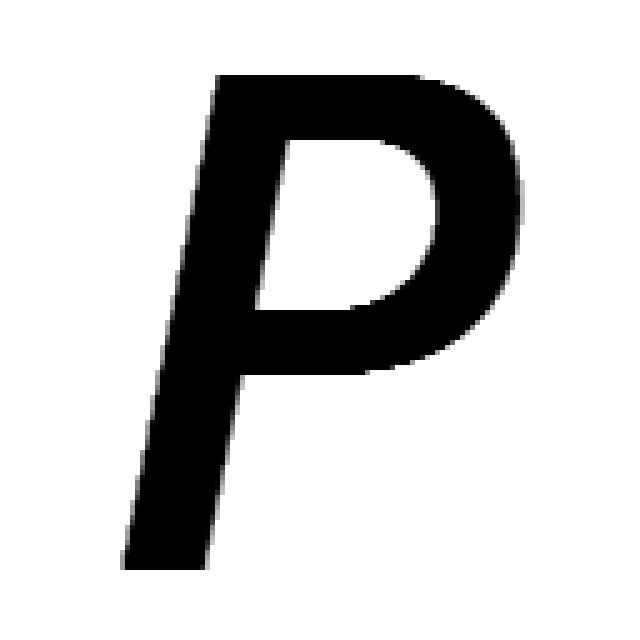P: (120, 75, 525, 575)
